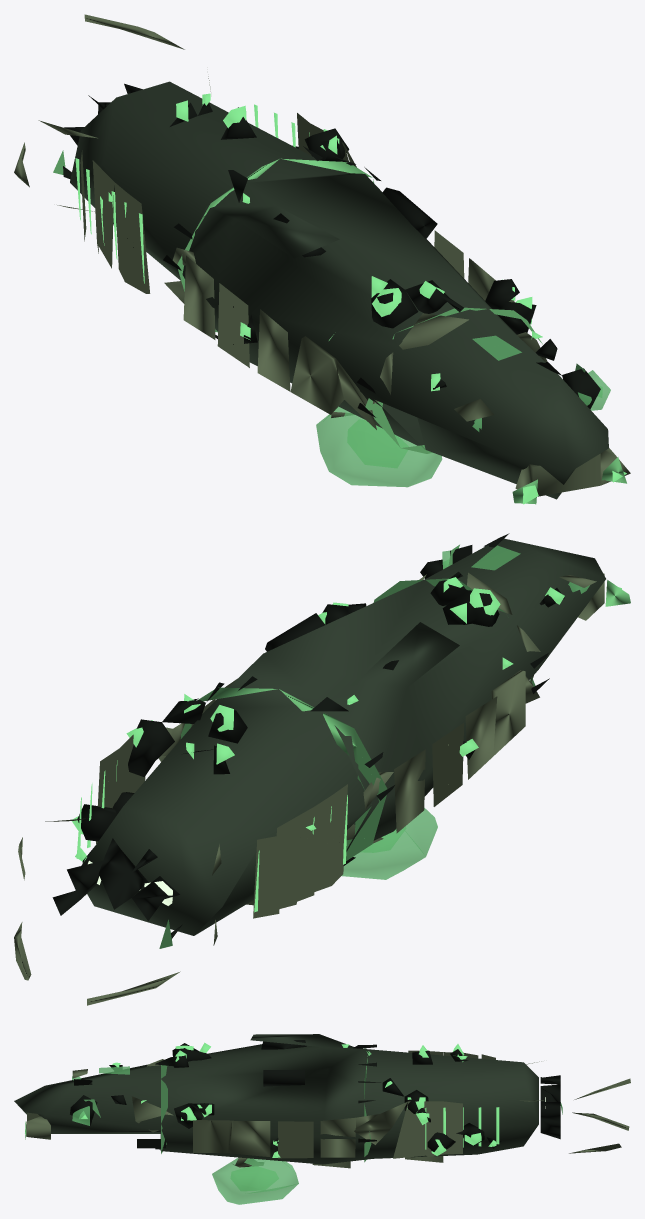
Rendered from zrost-szczepieni-hawk-4-lod2.glb.
The picture shows the model from 3 angles, top to bottom: view 1: azimuth 30°, elevation 25°; view 2: azimuth 150°, elevation 25°; view 3: azimuth 270°, elevation 25°; orthographic projection. The views are drawn at different scales.
Size of the model in its own units: 18.87 by 20.09 by 72.72.
